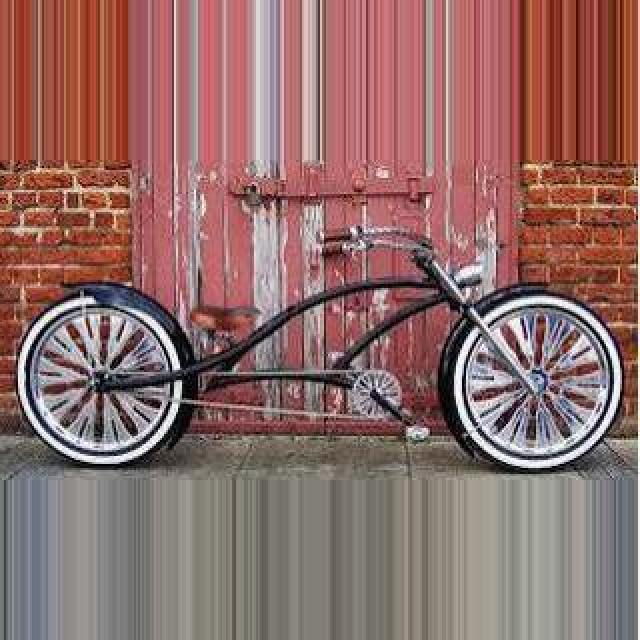Person: (16, 237, 622, 469)
